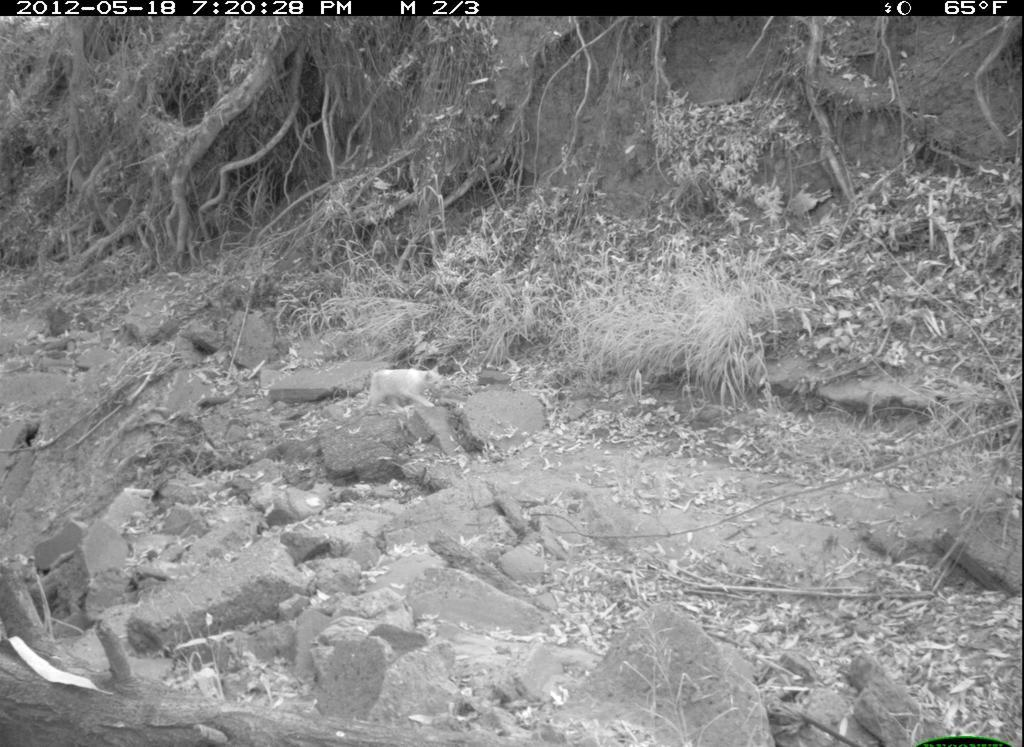cat: (350, 361, 451, 423)
